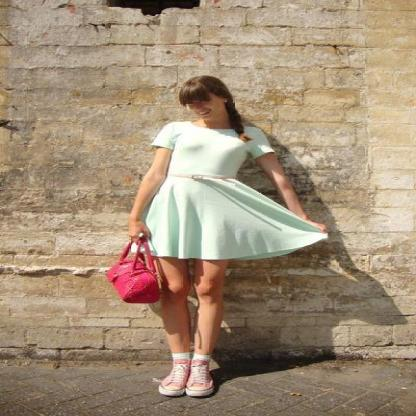bag: (96, 247, 172, 303)
dress: (146, 121, 326, 259)
shoe: (153, 367, 212, 395)
